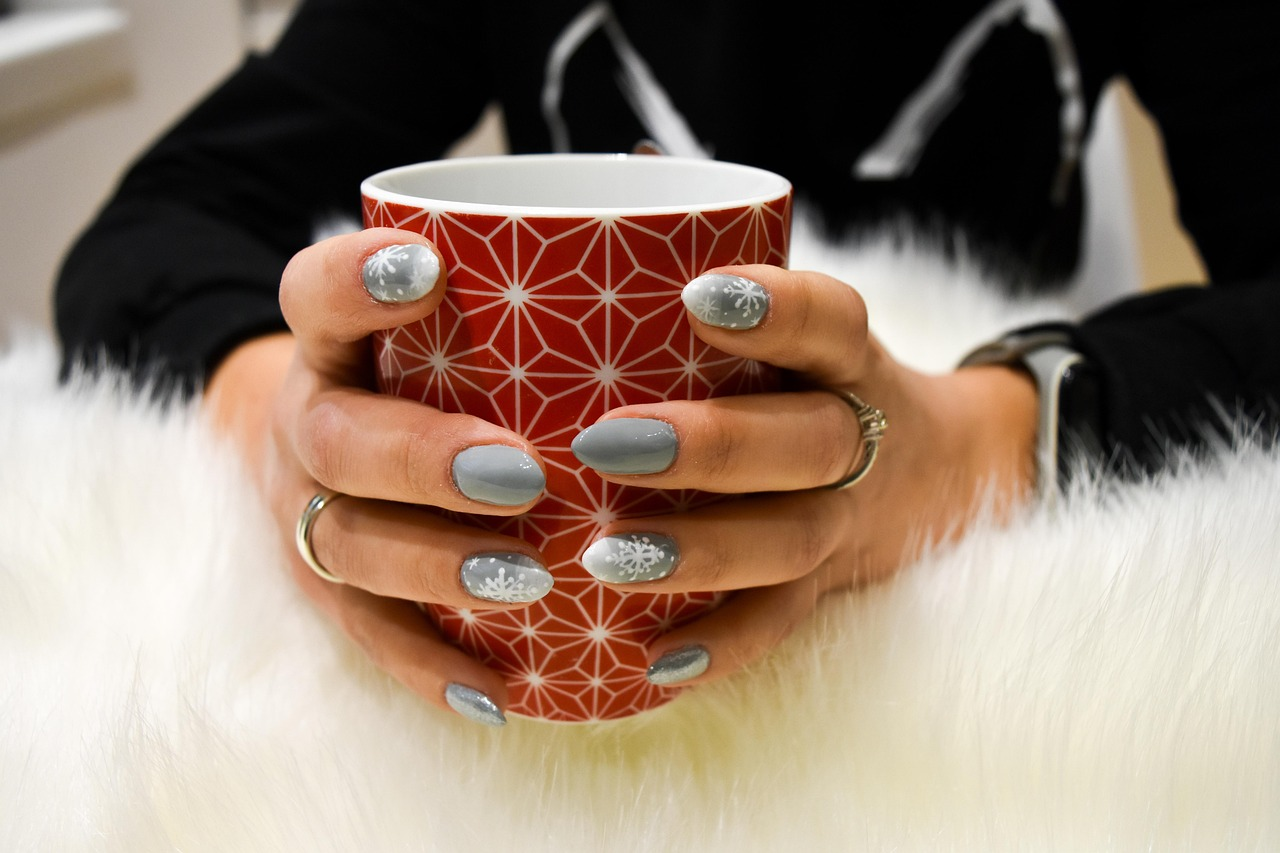mug: (309, 135, 832, 751)
